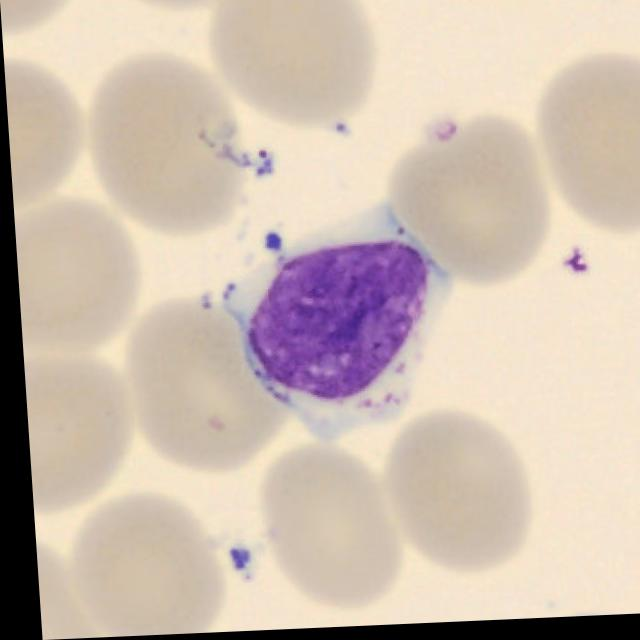Linfocito atipico: (218, 207, 445, 446)
